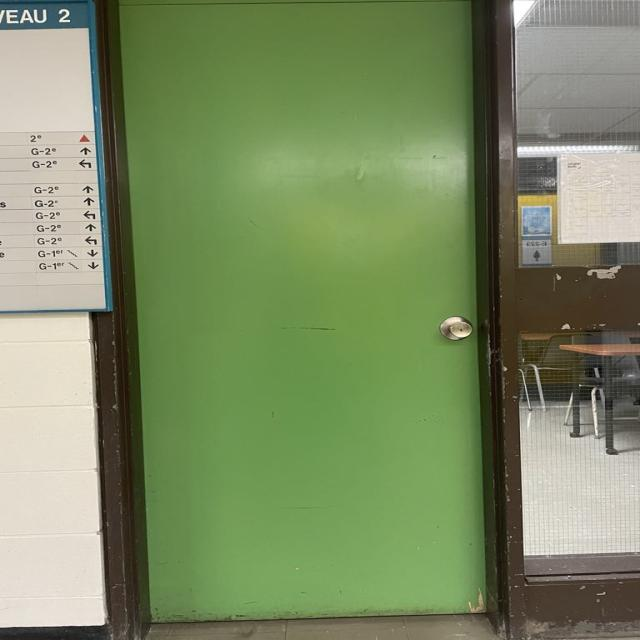door-knob: (440, 316, 473, 339)
